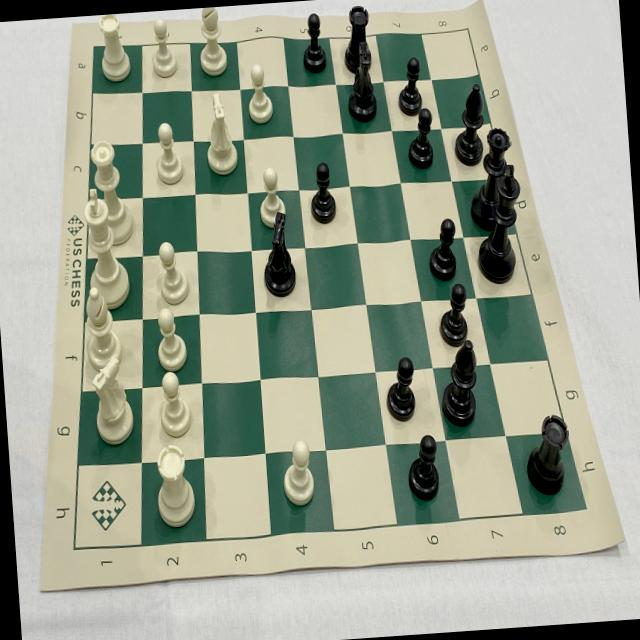black-bishop: (437, 338, 480, 428), (452, 80, 484, 167)
black-king: (471, 162, 527, 283)
black-knight: (256, 210, 300, 300), (344, 37, 378, 123)
black-pawn: (402, 434, 440, 504), (423, 216, 460, 284), (382, 356, 419, 424), (434, 284, 472, 348), (306, 159, 338, 226), (402, 108, 435, 170), (394, 55, 424, 120), (298, 12, 328, 74)
black-queen: (470, 124, 518, 221)
black-rook: (523, 412, 574, 498), (339, 0, 374, 75)
white-bishop: (79, 282, 124, 372), (194, 6, 230, 75)
white-king: (77, 186, 130, 310)
white-knight: (86, 352, 135, 446), (199, 88, 242, 178)
white-pawn: (277, 436, 316, 507), (156, 368, 192, 440), (154, 240, 192, 305), (153, 304, 188, 372), (152, 120, 184, 185), (148, 16, 179, 80), (256, 162, 286, 225), (245, 63, 273, 125)
white-queen: (86, 135, 136, 247)
white-rook: (151, 440, 196, 528), (94, 12, 133, 84)
